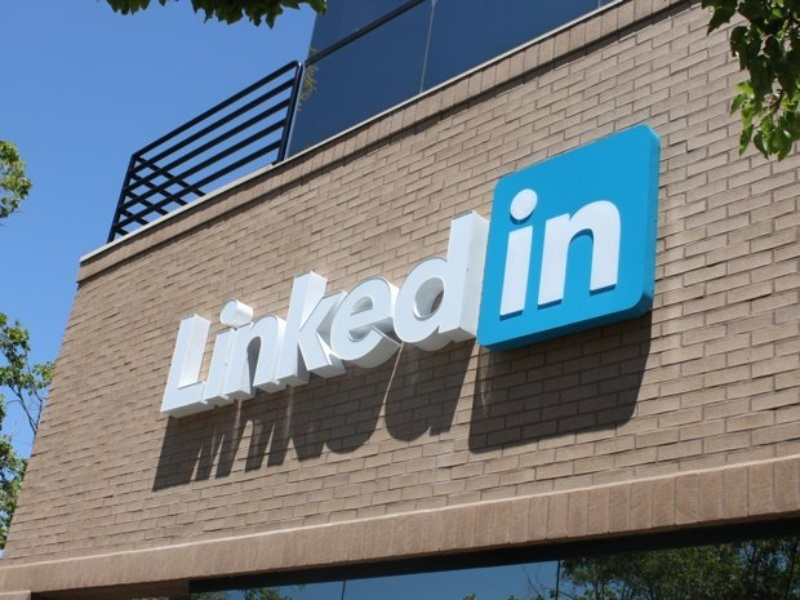text: (193, 203, 208, 425), (209, 203, 224, 425), (225, 203, 240, 425), (241, 203, 256, 425), (257, 203, 272, 425), (273, 203, 288, 425), (289, 203, 304, 425), (305, 203, 320, 425), (321, 203, 336, 425), (337, 203, 352, 425), (353, 203, 368, 425), (369, 203, 384, 425), (385, 203, 400, 425), (401, 203, 416, 425), (417, 203, 432, 425), (433, 203, 448, 425), (449, 203, 464, 425), (465, 203, 480, 425), (180, 203, 192, 425), (513, 167, 528, 326), (529, 167, 544, 326), (545, 167, 560, 326), (561, 167, 576, 326), (577, 167, 592, 326), (593, 167, 608, 326), (481, 203, 491, 425), (609, 167, 621, 326), (510, 167, 512, 326)
